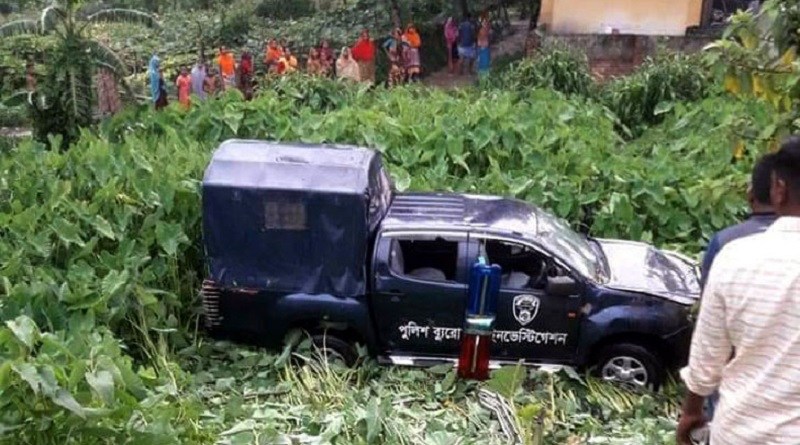policecar: (196, 137, 702, 390)
